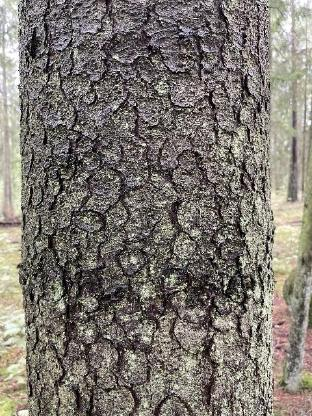tree: (14, 0, 287, 416)
